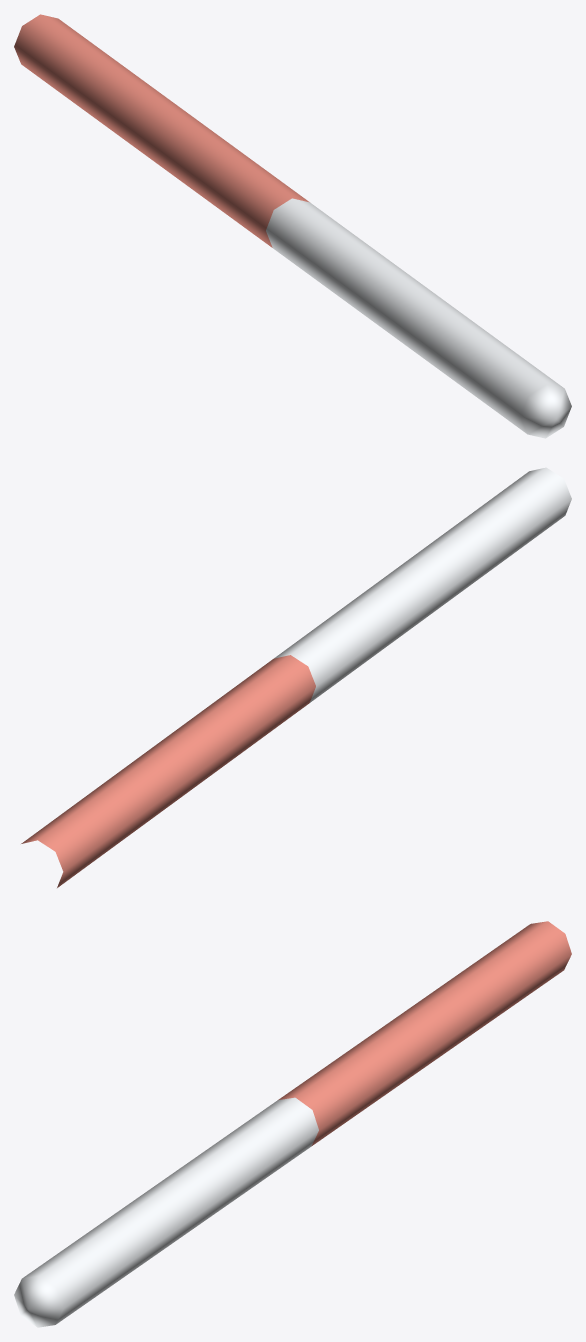
Rendered from sigma_apap_O_H.glb.
3 renders of one model, top to bottom at view 1: azimuth 30°, elevation 25°; view 2: azimuth 150°, elevation 25°; view 3: azimuth 330°, elevation 25°, orthographic. The views are drawn at different scales.
Visible parts, largest first — view 1: node-geom37.001; view 2: node-geom37.001; view 3: node-geom37.001.
Boxes of the visible parts, x1=… form: node-geom37.001: x1=14, y1=14, x2=571, y2=438; node-geom37.001: x1=21, y1=467, x2=571, y2=887; node-geom37.001: x1=14, y1=921, x2=571, y2=1327.
Size of the model in its own units: 0.0658 by 0.0657 by 0.9963.
